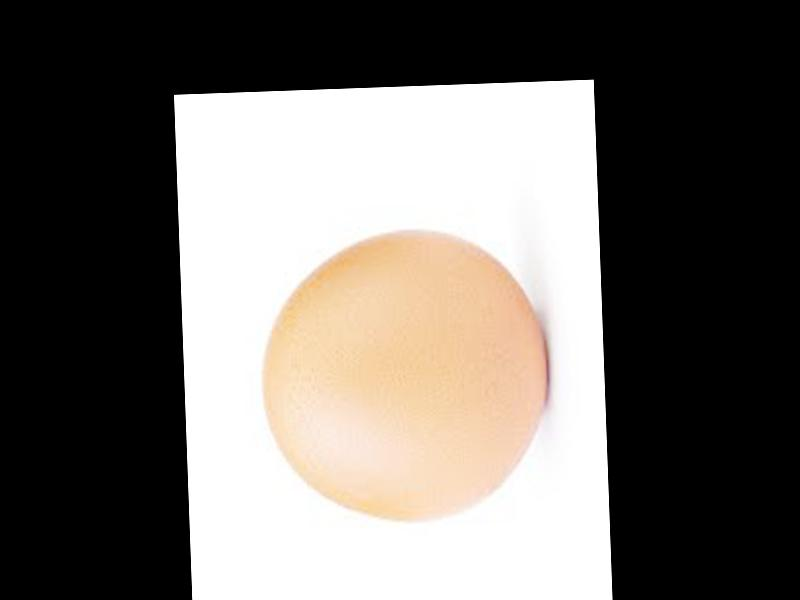Eggs: (261, 226, 550, 525)
